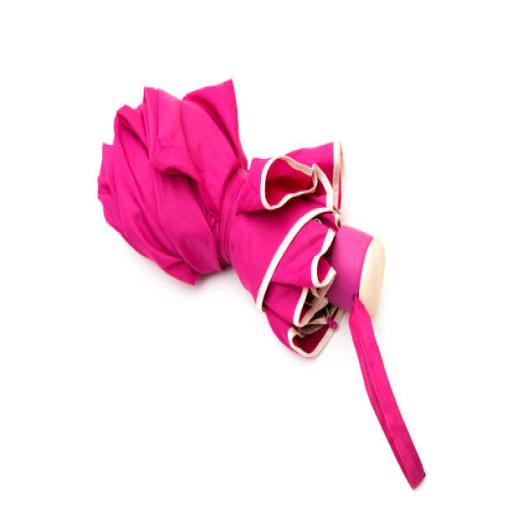guarda_chuva: (96, 77, 427, 489)
